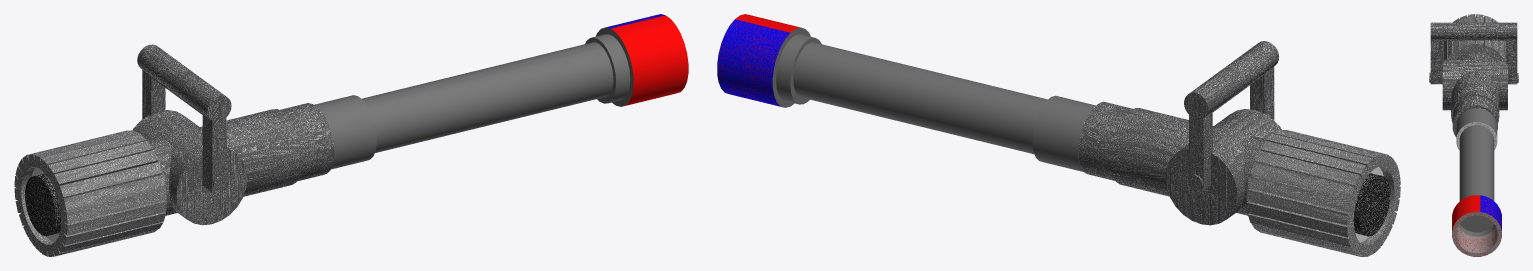
The model's file is HoseNozzle.dae.
3 renders of one model, left to right at view 1: azimuth 30°, elevation 25°; view 2: azimuth 150°, elevation 25°; view 3: azimuth 270°, elevation 25°, orthographic. The views are drawn at different scales.
Visible parts, largest first — view 1: instance_0 (×7), instance_2 (×2), instance_1 (×3); view 2: instance_0 (×7), instance_2 (×2), instance_1 (×4); view 3: instance_0 (×5), instance_2 (×4), instance_1 (×5).
Part boxes in pixels (x1,y1,x2,y2): instance_0 (×7): (14,44,334,256); instance_2 (×2): (314,42,613,169); instance_1 (×3): (585,15,688,106); instance_0 (×7): (1078,41,1400,256); instance_2 (×2): (793,42,1095,171); instance_1 (×4): (717,14,821,107); instance_0 (×5): (1429,14,1518,136); instance_2 (×4): (1456,108,1497,228); instance_1 (×5): (1452,194,1501,256).
Bounding box in the file's own units: 16.31 × 3.24 × 3.69.
